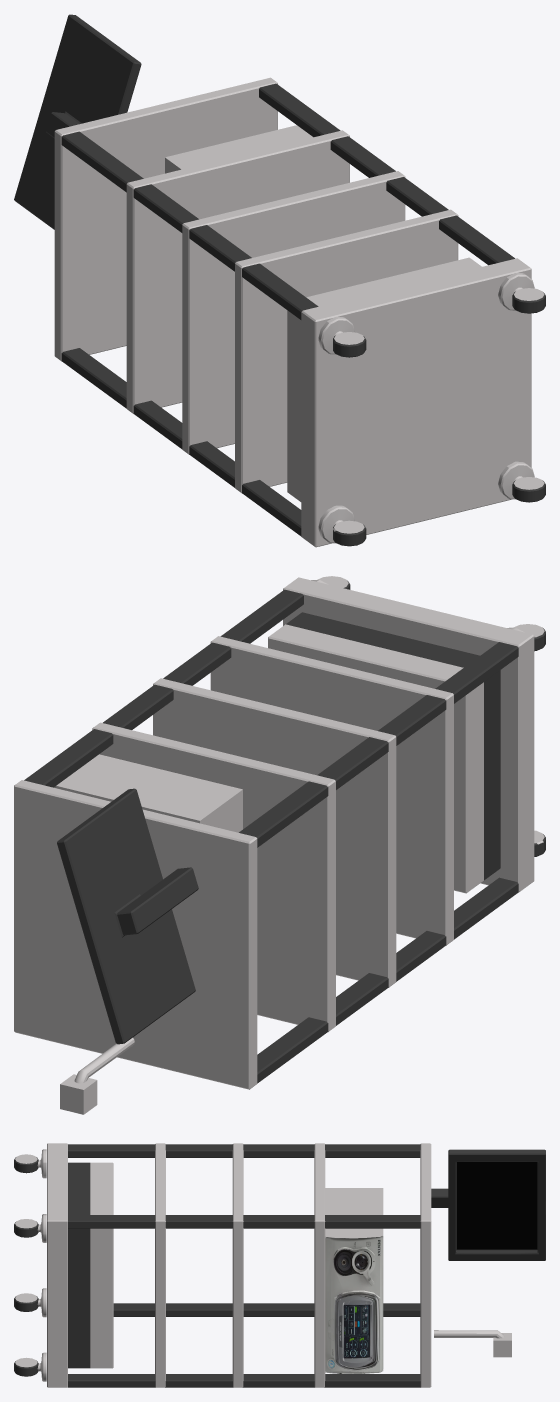
The model's file is ВЭС-2.fbx.
The picture shows the model from 3 angles, top to bottom: view 1: azimuth 30°, elevation 25°; view 2: azimuth 150°, elevation 25°; view 3: azimuth 270°, elevation 25°; orthographic projection. The views are drawn at different scales.
Parts seen in each view (by area): view 1: Cube.002; view 2: Cube.002; view 3: Cube.002.
Part boxes in pixels (x1=…): Cube.002: x1=14, y1=14, x2=545, y2=547; Cube.002: x1=14, y1=576, x2=545, y2=1114; Cube.002: x1=14, y1=1143, x2=545, y2=1387.
Size of the model in its own units: 65.54 by 75.83 by 185.
